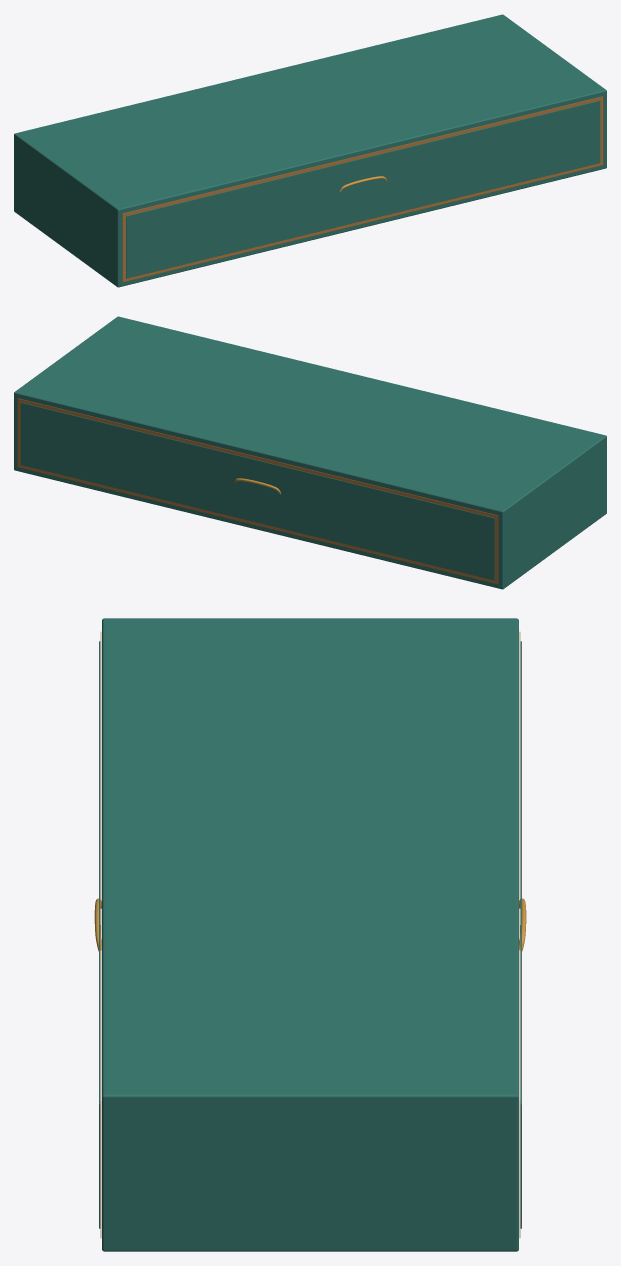
The model's file is drawer-one-base.glb.
3 renders of one model, top to bottom at view 1: azimuth 30°, elevation 25°; view 2: azimuth 150°, elevation 25°; view 3: azimuth 270°, elevation 25°, orthographic. The views are drawn at different scales.
Parts seen in each view (by area): view 1: teal, wood; view 2: teal, wood; view 3: teal, wood.
Boxes of the visible parts, <box> form: teal: <box>14,14,606,287</box>; wood: <box>122,96,603,282</box>; teal: <box>14,316,606,589</box>; wood: <box>17,398,498,584</box>; teal: <box>99,618,521,1251</box>; wood: <box>100,632,520,1237</box>.
Bounding box in the file's own units: 32 × 4.9 × 12.21.
